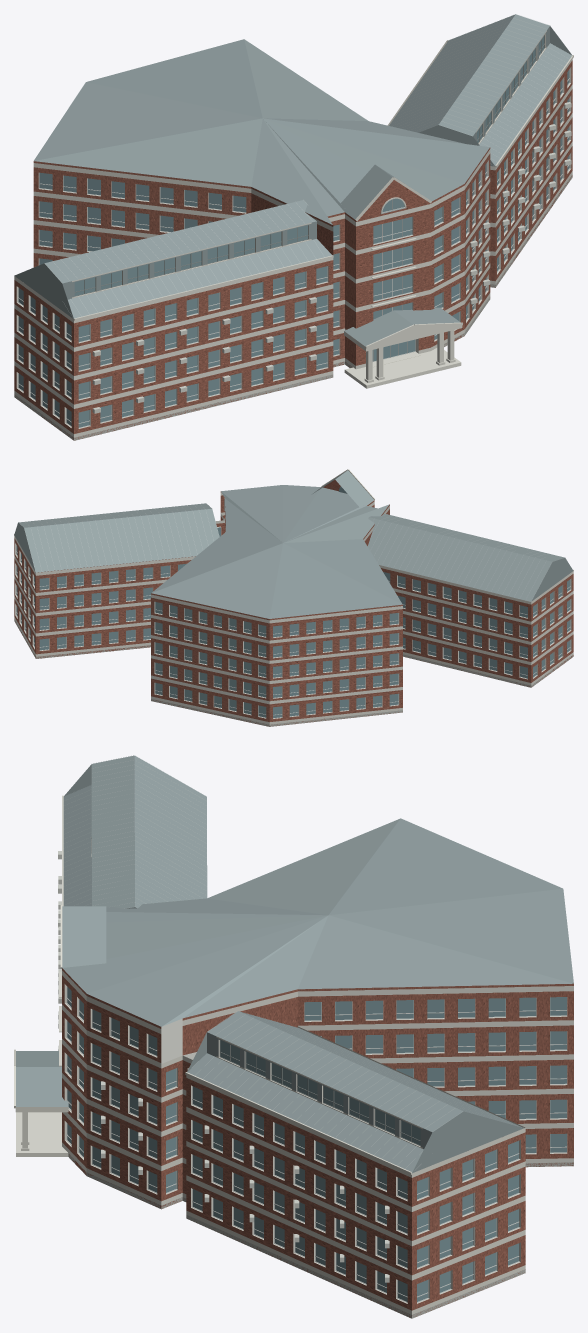
The picture shows the model from 3 angles, top to bottom: view 1: azimuth 30°, elevation 25°; view 2: azimuth 150°, elevation 25°; view 3: azimuth 270°, elevation 25°; orthographic projection. The views are drawn at different scales.
Parts seen in each view (by area): view 1: jeongui__classroomFacades (×3), jeongui__centralHipRoof, jeongui__roof_right, jeongui__roof_left, jeongui__windowAndDoorFrames (×2), jeongui__recessedOpeningReveals, jeongui__centralWindowStack (×2), jeongui__roof_left__longAttic__window, jeongui__centralWindowStack__window, jeongui__wallAirConditioners, jeongui__porchPitchedRoof, jeongui__porchFoundation (+12 smaller); view 2: jeongui__classroomFacades (×3), jeongui__centralHipRoof, jeongui__roof_right, jeongui__roof_left, jeongui__windowAndDoorFrames, jeongui__recessedOpeningReveals, jeongui__originalFootprintFoundation, jeongui__pedimentRoof, jeongui__roof_left__ends, jeongui__roof_right__seams, jeongui__roof_right__ends; view 3: jeongui__classroomFacades (×3), jeongui__centralHipRoof, jeongui__roof_left, jeongui__roof_right, jeongui__windowAndDoorFrames (×2), jeongui__recessedOpeningReveals, jeongui__originalFootprintFoundation, jeongui__roof_right__ends, jeongui__upperCoreWingJunction (×2), jeongui__roof_right__longAttic__window, jeongui__pedimentRoof, jeongui__porchPitchedRoof (+6 smaller).
Part boxes in pixels (x1,y1,x2,y2): jeongui__classroomFacades (×3): [14, 40, 572, 440]; jeongui__centralHipRoof: [34, 39, 489, 224]; jeongui__roof_right: [389, 14, 571, 165]; jeongui__roof_left: [44, 200, 331, 318]; jeongui__windowAndDoorFrames (×2): [18, 35, 569, 428]; jeongui__recessedOpeningReveals: [16, 34, 571, 428]; jeongui__centralWindowStack (×2): [356, 202, 430, 369]; jeongui__roof_left__longAttic__window: [74, 225, 307, 295]; jeongui__centralWindowStack__window: [373, 217, 412, 319]; jeongui__wallAirConditioners: [92, 102, 571, 413]; jeongui__porchPitchedRoof: [344, 307, 460, 346]; jeongui__porchFoundation: [344, 348, 461, 388]; jeongui__classroomFacades (×3): [14, 491, 573, 726]; jeongui__centralHipRoof: [151, 485, 402, 618]; jeongui__roof_right: [18, 503, 219, 572]; jeongui__roof_left: [367, 513, 564, 601]; jeongui__windowAndDoorFrames: [16, 498, 570, 718]; jeongui__recessedOpeningReveals: [15, 499, 571, 718]; jeongui__originalFootprintFoundation: [14, 619, 573, 726]; jeongui__pedimentRoof: [313, 470, 374, 506]; jeongui__roof_left__ends: [531, 558, 573, 601]; jeongui__roof_right__seams: [20, 504, 219, 571]; jeongui__roof_right__ends: [14, 522, 35, 571]; jeongui__classroomFacades (×3): [62, 968, 573, 1317]; jeongui__centralHipRoof: [62, 818, 573, 1026]; jeongui__roof_left: [63, 755, 207, 908]; jeongui__roof_right: [187, 1011, 523, 1172]; jeongui__windowAndDoorFrames (×2): [66, 986, 567, 1302]; jeongui__recessedOpeningReveals: [64, 839, 567, 1303]; jeongui__originalFootprintFoundation: [68, 1018, 573, 1318]; jeongui__roof_right__ends: [187, 1032, 523, 1173]; jeongui__upperCoreWingJunction (×2): [182, 989, 297, 1055]; jeongui__roof_right__longAttic__window: [220, 1040, 420, 1145]; jeongui__pedimentRoof: [62, 906, 106, 967]; jeongui__porchPitchedRoof: [16, 1051, 68, 1106].
Bounding box in the file's own units: 85.1 × 23.5 × 53.41.
10 materials, 1 textured.
